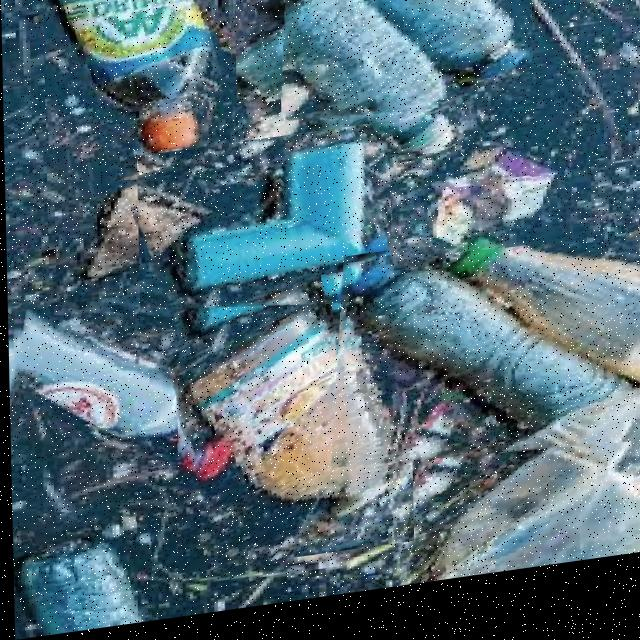plasticbottle: (324, 234, 640, 494), (168, 272, 410, 579), (135, 130, 408, 342), (233, 0, 475, 217), (382, 400, 640, 598), (5, 286, 239, 492), (42, 0, 239, 203), (276, 0, 532, 144), (9, 501, 177, 640)
plasticbottlecap: (107, 101, 234, 182)
plasticcover: (387, 146, 571, 277)
